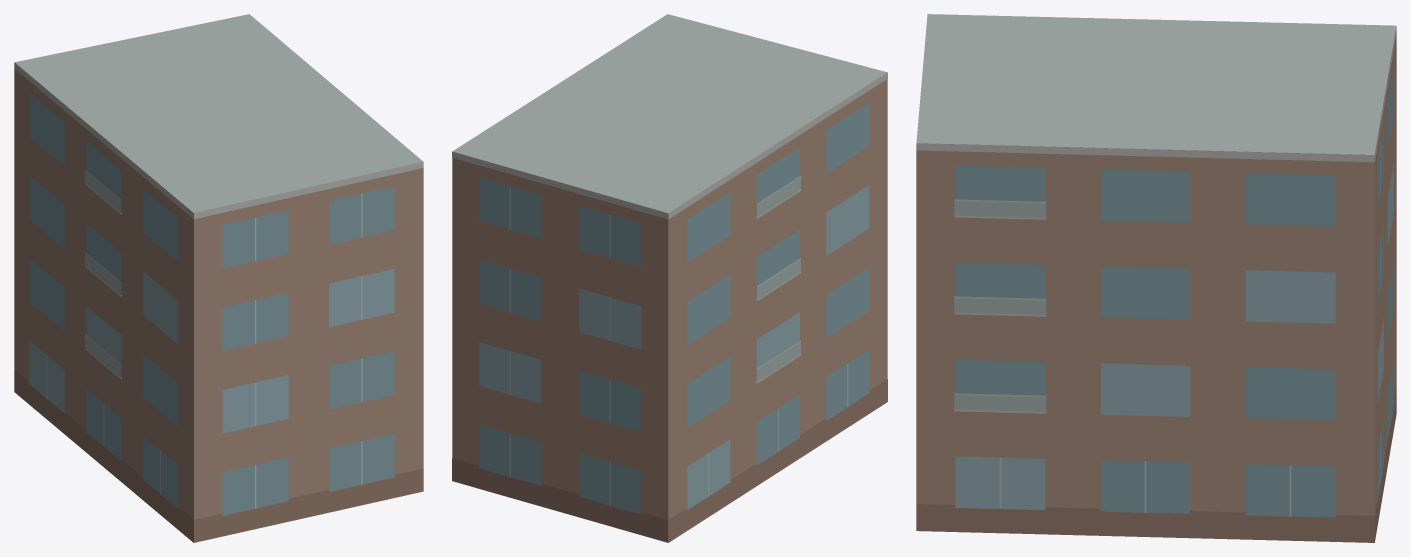
File: survey-upis-32953422.glb
The picture shows the model from 3 angles, left to right: view 1: azimuth 30°, elevation 25°; view 2: azimuth 150°, elevation 25°; view 3: azimuth 270°, elevation 25°; orthographic projection. The views are drawn at different scales.
Parts seen in each view (by area): view 1: survey-upis-32953422.tmp; view 2: survey-upis-32953422.tmp; view 3: survey-upis-32953422.tmp.
Boxes of the visible parts, x1,y1,x2,y2 form: survey-upis-32953422.tmp: (14,14,423,542); survey-upis-32953422.tmp: (452,14,887,542); survey-upis-32953422.tmp: (916,14,1396,542).
Bounding box in the file's own units: 10.15 × 13 × 14.6.
